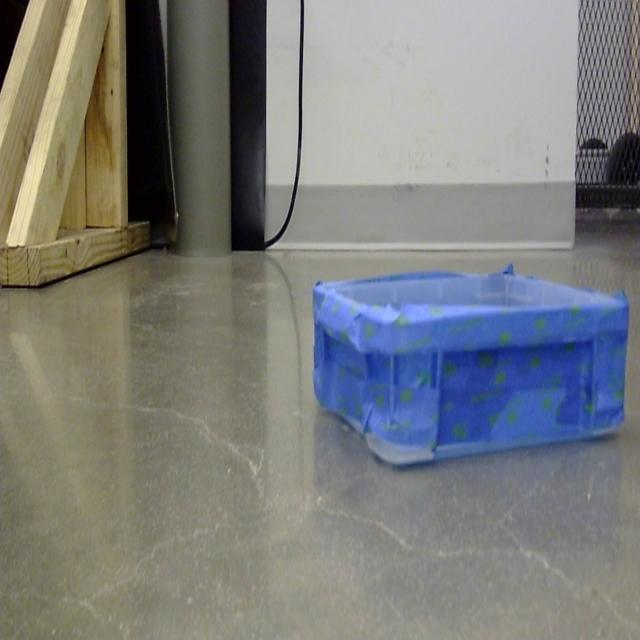bucket: (312, 269, 631, 471)
